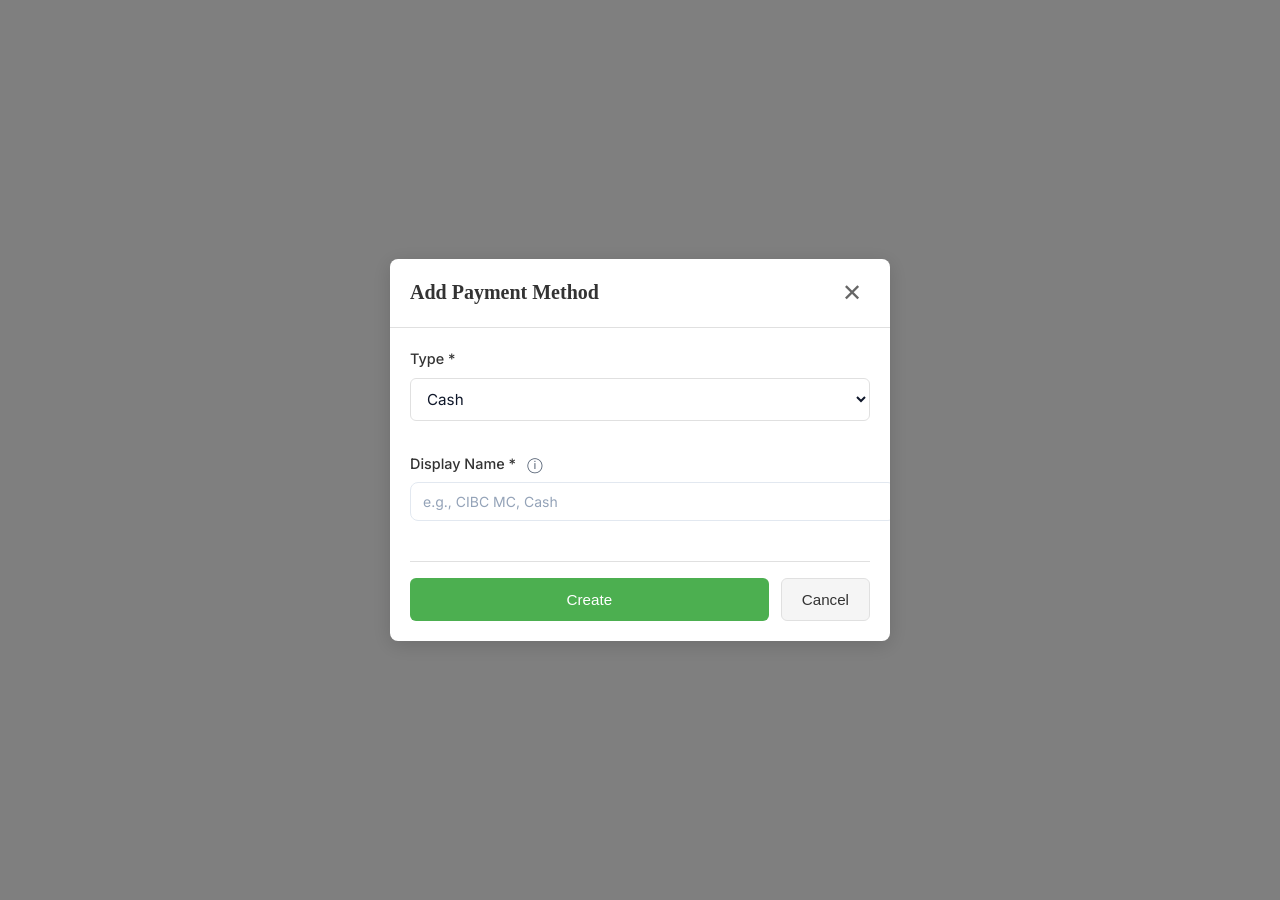
it: PaymentMethodForm - Billing Cycle Day Field › should render billing_cycle_day field only for credit cards
The image size is (1280, 900).
Expected: the field labelled "statement closing day" is not shown
Change to credit card type
Select "Credit Card" in the dropdown labelled "Type *" at (640, 399), box [410,378,870,420]
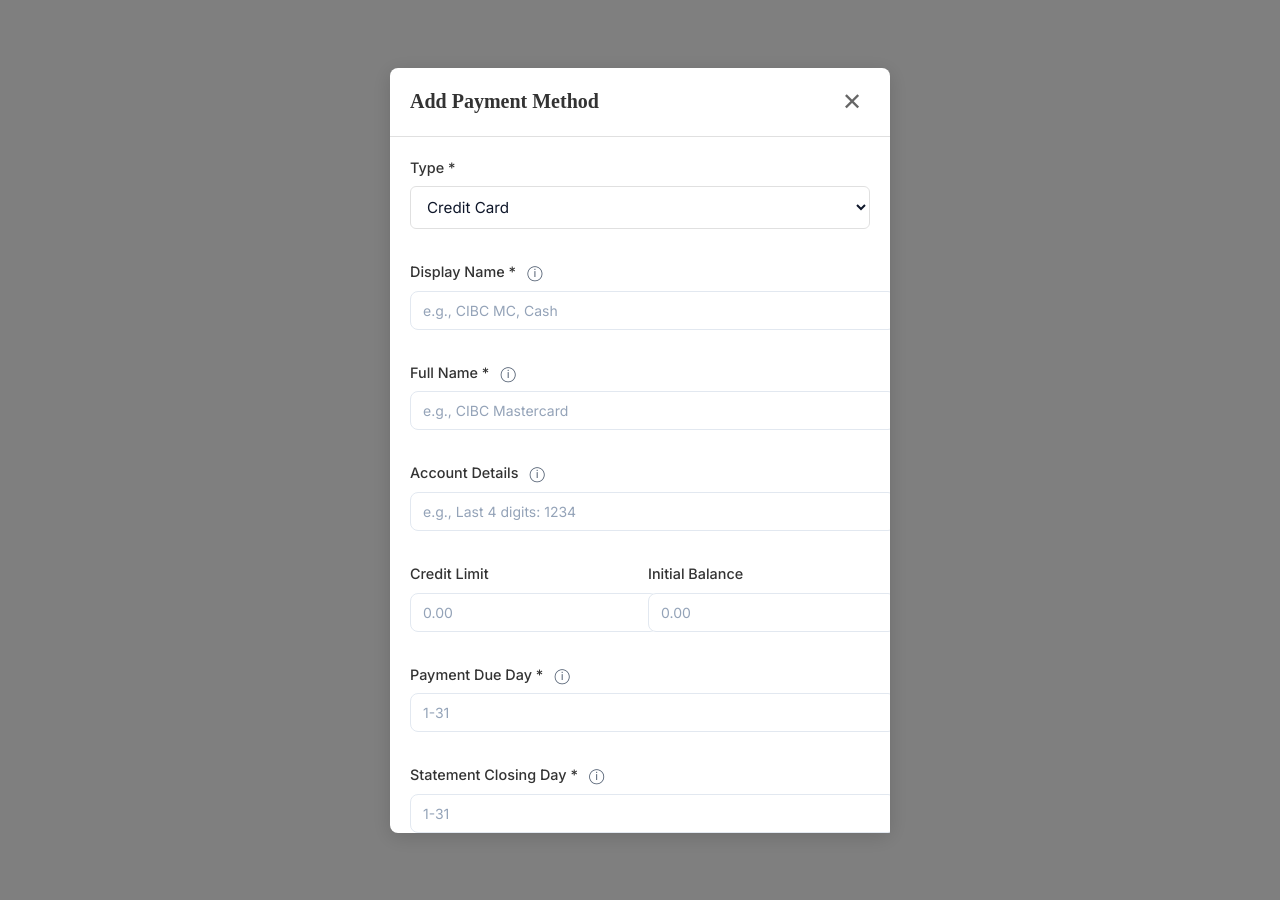
Expected: the number field labelled "Statement Closing Day * ⓘ" is shown, [410,794,890,832]
Change back to debit
Select "Debit" in the dropdown labelled "Type *" at (640, 208), box [410,186,870,229]
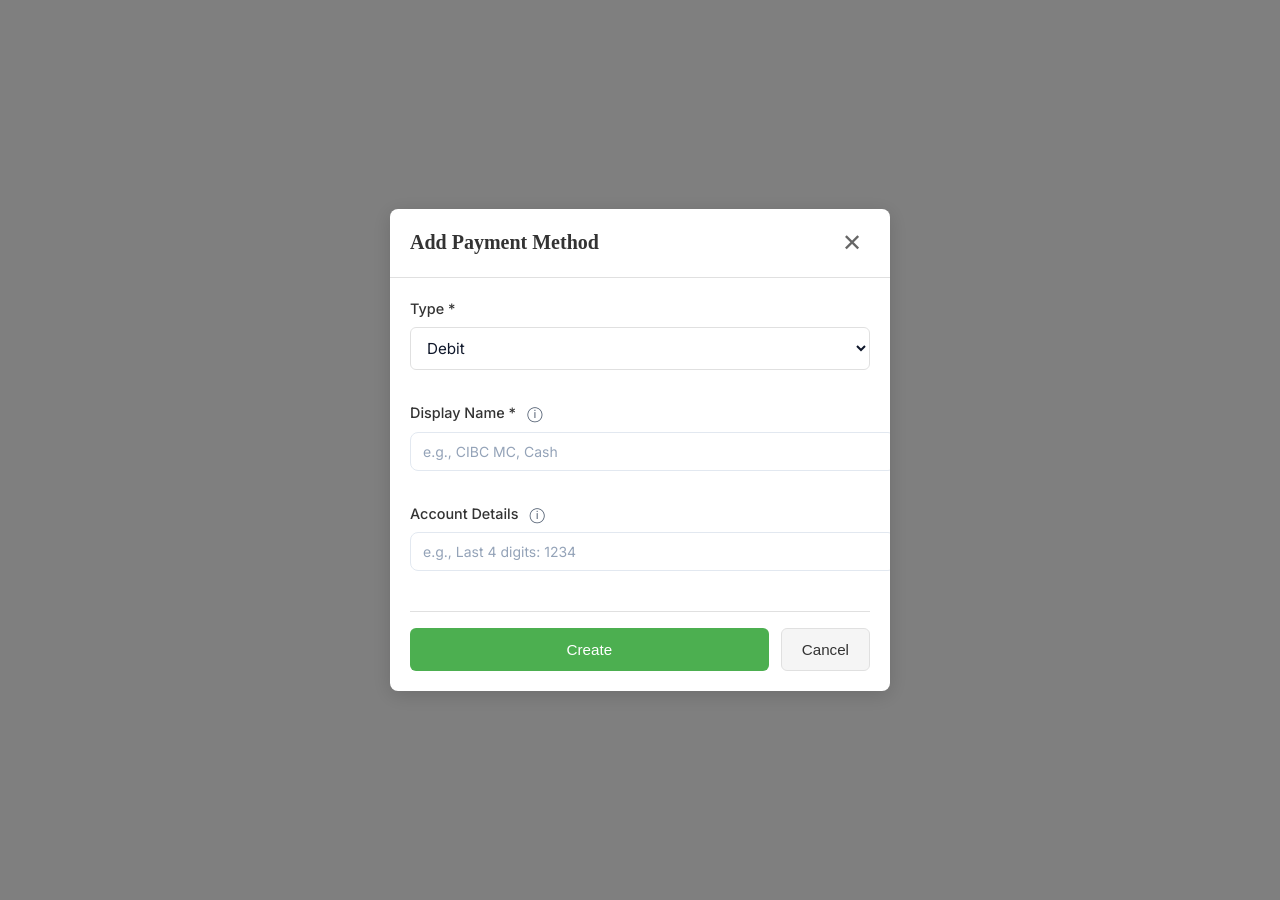
Expected: the label labelled "Statement Closing Day" is gone
